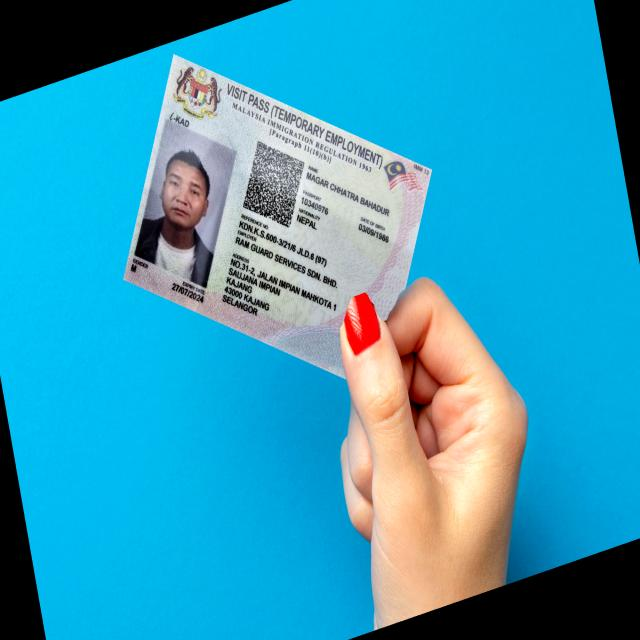ikad-temp: (122, 52, 433, 380)
